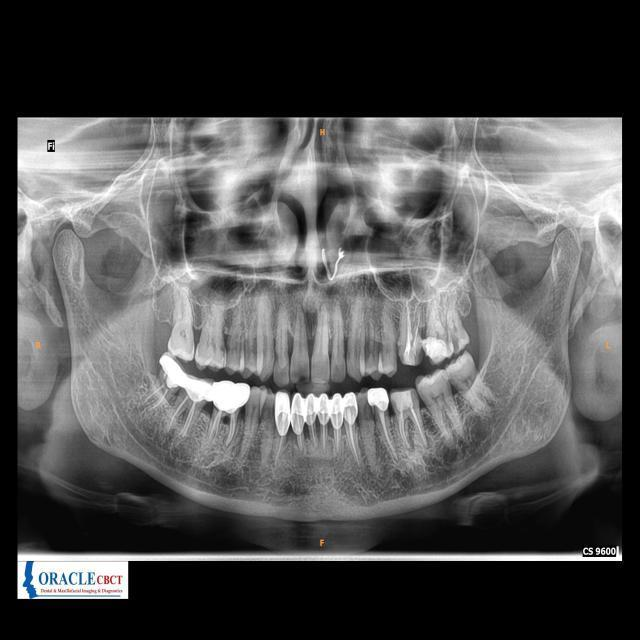dentin-curugu: (448, 330, 462, 354), (295, 373, 311, 385)
dolgu: (422, 336, 448, 363), (390, 388, 418, 412)
kanal-tedavisi: (210, 406, 238, 446), (173, 394, 197, 439), (400, 408, 426, 448), (377, 413, 397, 464), (142, 384, 174, 410), (346, 418, 362, 462), (272, 426, 290, 461), (404, 302, 416, 352), (318, 422, 331, 454), (294, 421, 305, 451), (332, 422, 342, 453), (309, 417, 318, 450)
kaplama: (206, 380, 250, 412), (154, 349, 187, 389), (267, 392, 294, 431), (180, 376, 212, 403), (367, 384, 391, 413), (291, 394, 306, 432), (304, 390, 319, 426), (319, 390, 332, 428), (332, 390, 344, 430), (344, 389, 358, 423)
